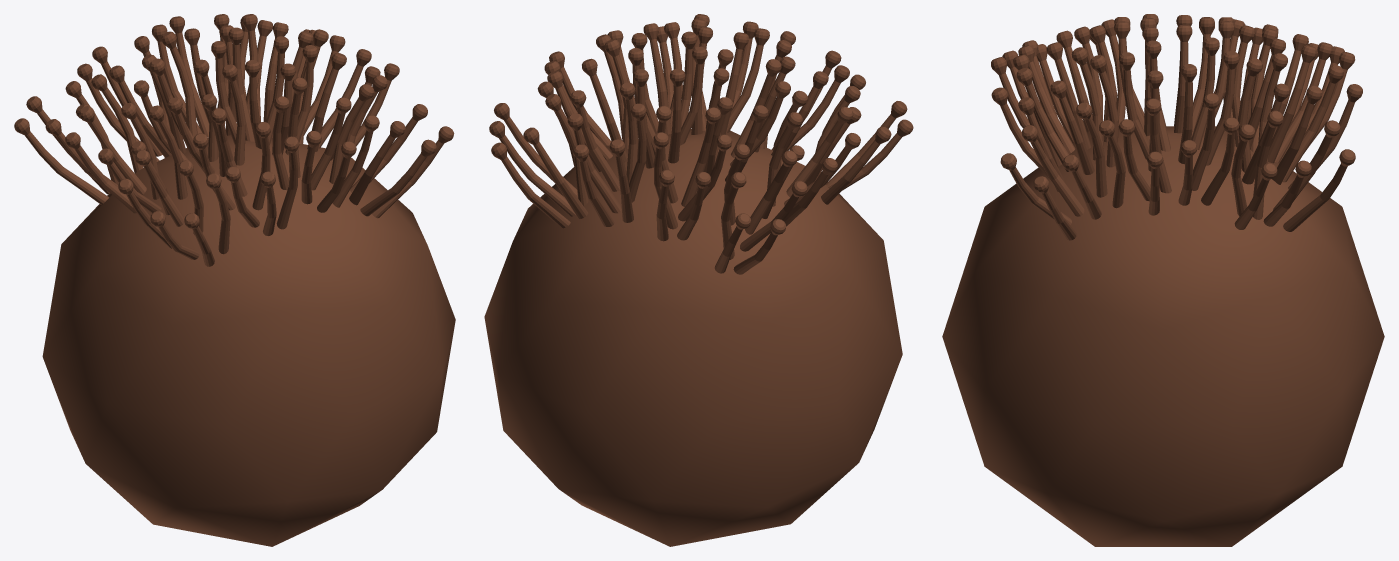
Rendered from HairCrop.fbx.
3 views of the same model, side by side, from view 1: azimuth 30°, elevation 25°; view 2: azimuth 150°, elevation 25°; view 3: azimuth 270°, elevation 25° (orthographic). The views are drawn at different scales.
Parts seen in each view (by area): view 1: Cylinder.010; view 2: Cylinder.010; view 3: Cylinder.010.
Boxes of the visible parts, bbox=[...] form: Cylinder.010: bbox=[14, 14, 455, 546]; Cylinder.010: bbox=[484, 14, 913, 546]; Cylinder.010: bbox=[942, 14, 1384, 546].
Bounding box in the file's own units: 41.8 × 54.51 × 43.95.
